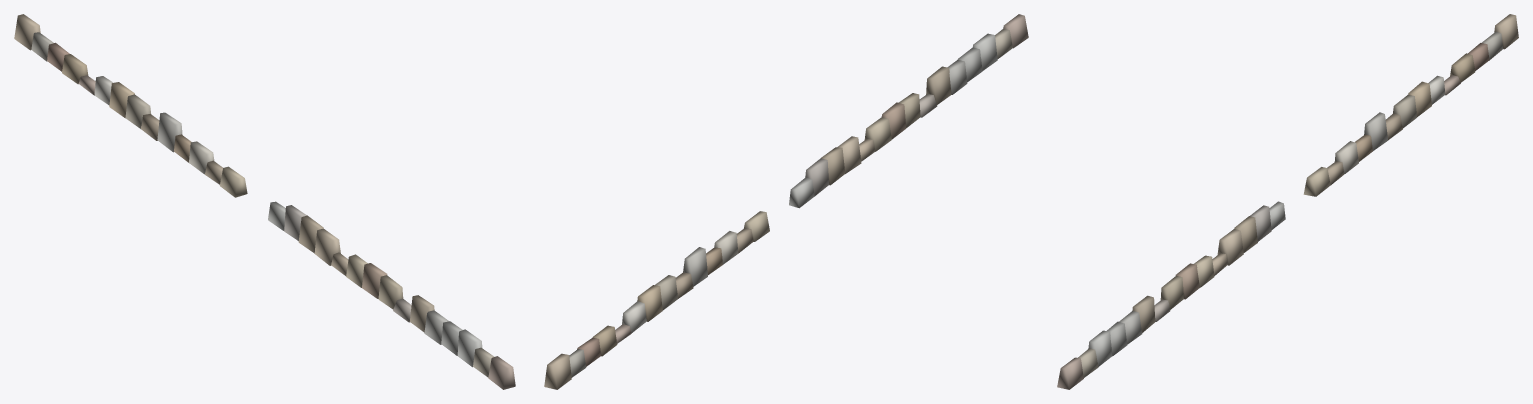
File: farm_26_26_far.glb
The picture shows the model from 3 angles, left to right: view 1: azimuth 30°, elevation 25°; view 2: azimuth 150°, elevation 25°; view 3: azimuth 330°, elevation 25°; orthographic projection. The views are drawn at different scales.
Parts seen in each view (by area): view 1: geometry_0; view 2: geometry_0; view 3: geometry_0.
Boxes of the visible parts, bbox=[...] form: geometry_0: bbox=[14, 14, 515, 389]; geometry_0: bbox=[544, 14, 1028, 389]; geometry_0: bbox=[1057, 14, 1518, 389].
Bounding box in the file's own units: 1.66 × 1.82 × 48.12.
